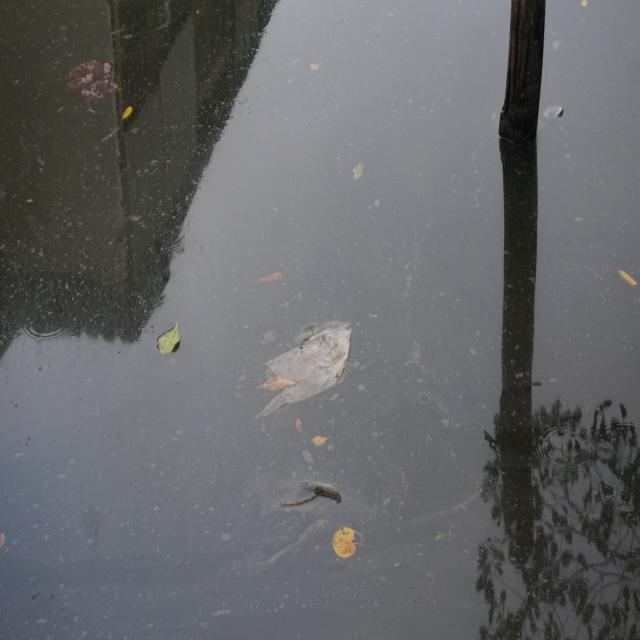Kantong Plastik: (262, 319, 355, 421), (68, 52, 122, 104)
